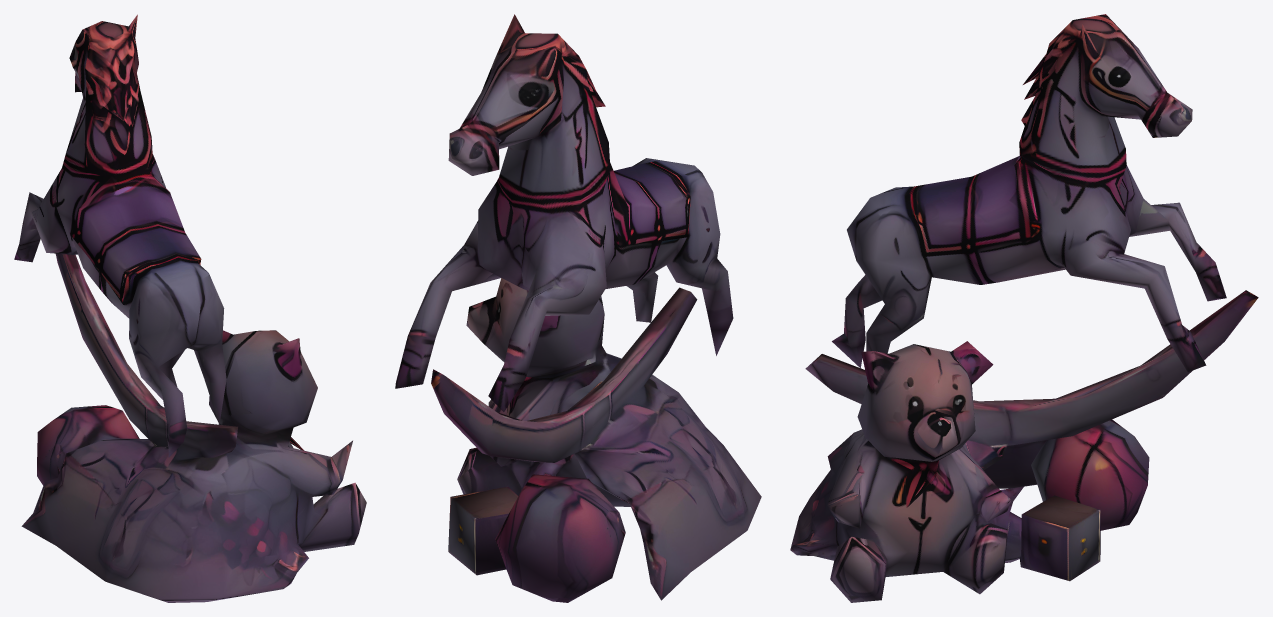
The model's file is caballo,oso,pelota.obj.
The picture shows the model from 3 angles, left to right: view 1: azimuth 30°, elevation 25°; view 2: azimuth 150°, elevation 25°; view 3: azimuth 270°, elevation 25°; orthographic projection. The views are drawn at different scales.
Parts seen in each view (by area): view 1: tripo_node_5583b1bb-f66c-48d4-9346-6f8d80440f6f; view 2: tripo_node_5583b1bb-f66c-48d4-9346-6f8d80440f6f; view 3: tripo_node_5583b1bb-f66c-48d4-9346-6f8d80440f6f.
Part boxes in pixels (box(x1,y1,x2,y2)): tripo_node_5583b1bb-f66c-48d4-9346-6f8d80440f6f: box(14, 14, 366, 602); tripo_node_5583b1bb-f66c-48d4-9346-6f8d80440f6f: box(395, 14, 761, 602); tripo_node_5583b1bb-f66c-48d4-9346-6f8d80440f6f: box(790, 14, 1258, 602).
Bounding box in the file's own units: 0.5294 × 1.01 × 0.8099.
Materials: 1 (1 with a texture image).
